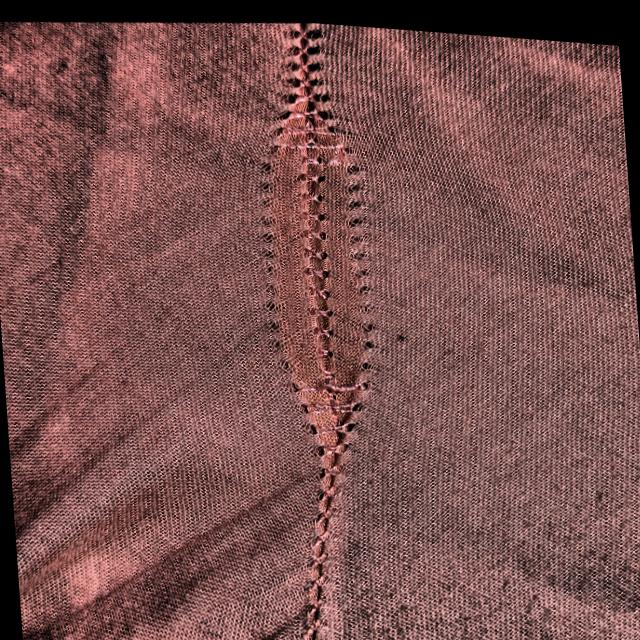seam: (210, 54, 402, 452)
